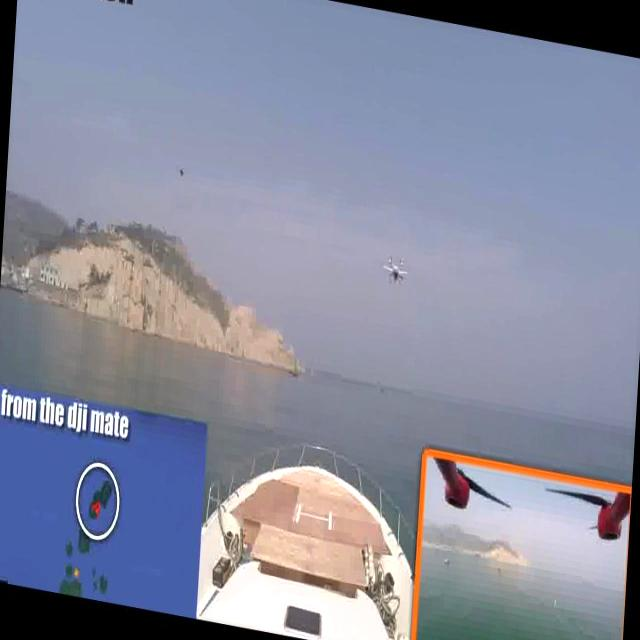drone: (380, 237, 416, 299)
